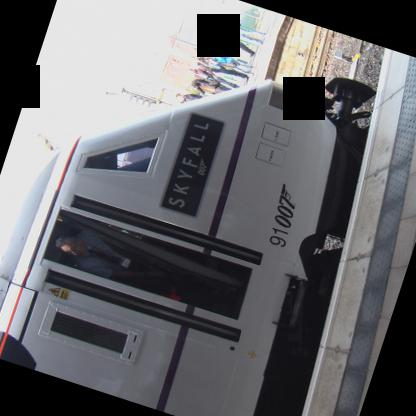backpack: (221, 61, 238, 72), (226, 19, 241, 26)
handbag: (205, 78, 220, 88)
